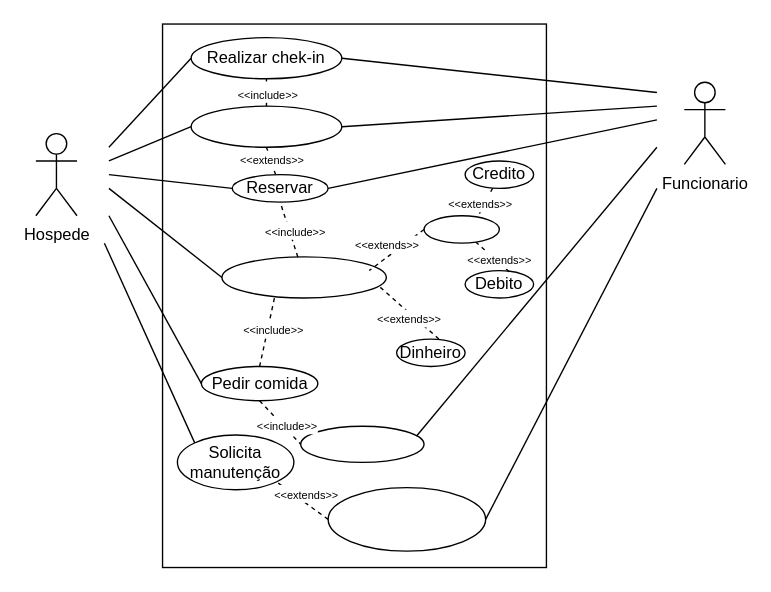
Image size: 771x592. Some labels were removed from this diagram. The centre of each missing label's shape, as x and y in pixels:
Abertura chamado manutenção: point (406, 518)
Cartão: point (461, 228)
Consulta reserva: point (266, 126)
Levar comida: point (361, 443)
Realizar pagamento: point (303, 277)
